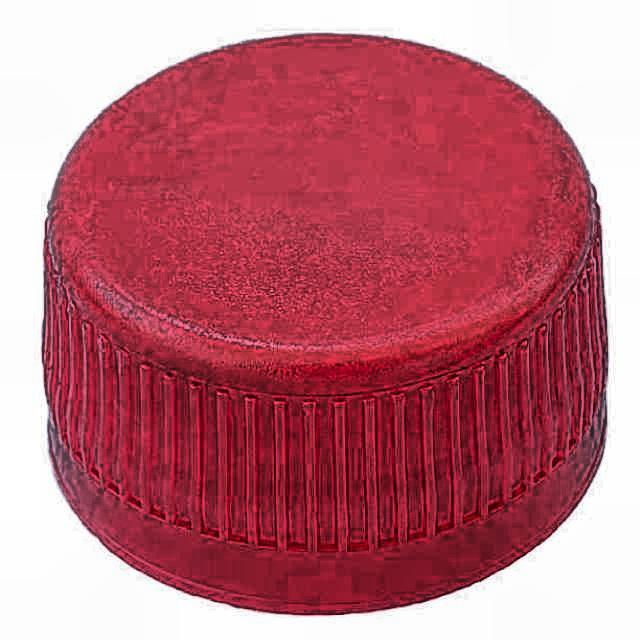plastic: (38, 33, 612, 619)
